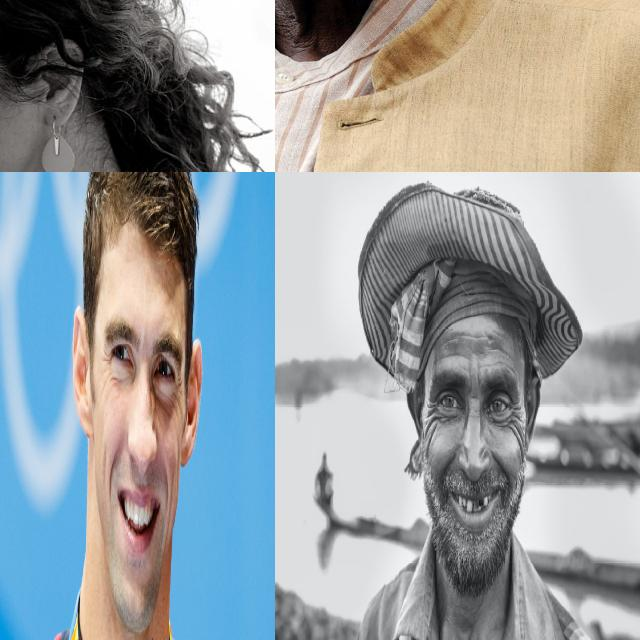crows_feet: (425, 396, 438, 439), (511, 403, 524, 438), (101, 346, 112, 381), (175, 373, 183, 409)
forehead: (458, 325, 484, 346), (490, 339, 512, 361), (496, 356, 516, 377), (442, 348, 466, 363)
frown_line: (470, 389, 482, 405), (474, 367, 482, 390)
gummy_smile: (493, 452, 510, 479), (108, 446, 116, 500), (163, 460, 169, 515), (444, 449, 456, 475)
masseter: (101, 443, 107, 490), (174, 446, 178, 500)
